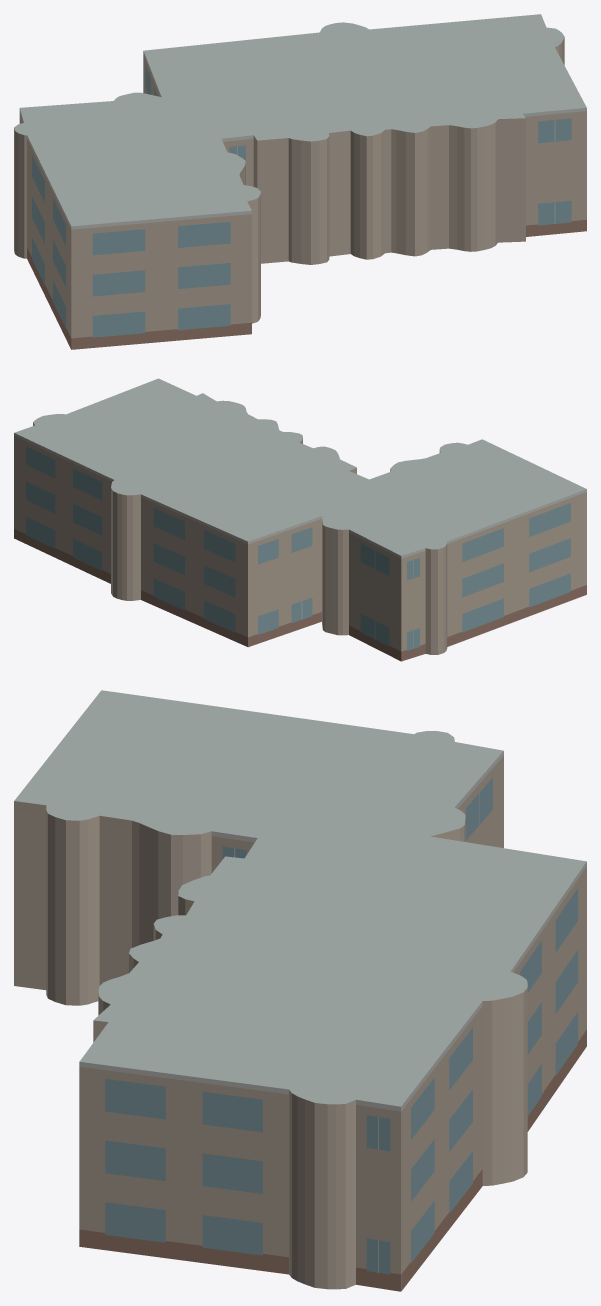
The model's file is survey-upis-32964484.glb.
3 renders of one model, top to bottom at view 1: azimuth 30°, elevation 25°; view 2: azimuth 150°, elevation 25°; view 3: azimuth 270°, elevation 25°, orthographic. The views are drawn at different scales.
Parts seen in each view (by area): view 1: survey-upis-32964484.tmp; view 2: survey-upis-32964484.tmp; view 3: survey-upis-32964484.tmp.
Part boxes in pixels (x1,y1,x2,y2): survey-upis-32964484.tmp: [14, 14, 586, 349]; survey-upis-32964484.tmp: [14, 378, 586, 661]; survey-upis-32964484.tmp: [14, 690, 586, 1291].
Bounding box in the file's own units: 44.2 × 9.15 × 25.69.
